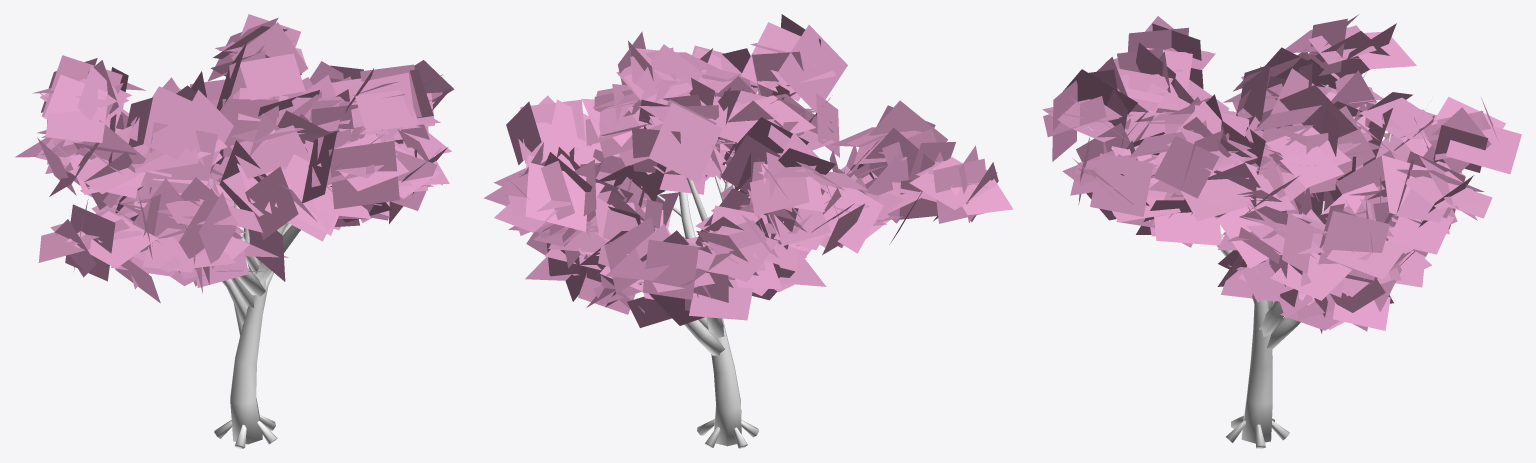
Rendered from SM_Sakura_Spread_LOD1.fbx.
3 views of the same model, side by side, from view 1: azimuth 30°, elevation 25°; view 2: azimuth 150°, elevation 25°; view 3: azimuth 270°, elevation 25° (orthographic). The views are drawn at different scales.
Parts seen in each view (by area): view 1: SM_Sakura_Spread_LOD1; view 2: SM_Sakura_Spread_LOD1; view 3: SM_Sakura_Spread_LOD1.
Boxes of the visible parts, x1=… form: SM_Sakura_Spread_LOD1: x1=15, y1=14, x2=454, y2=448; SM_Sakura_Spread_LOD1: x1=483, y1=14, x2=1013, y2=448; SM_Sakura_Spread_LOD1: x1=1042, y1=14, x2=1521, y2=448.
Size of the model in its own units: 7.96 by 6.99 by 5.94.
